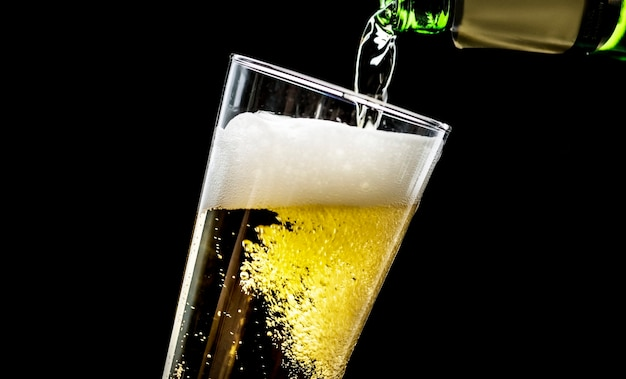alcohol: (161, 51, 454, 379), (375, 0, 626, 65)
